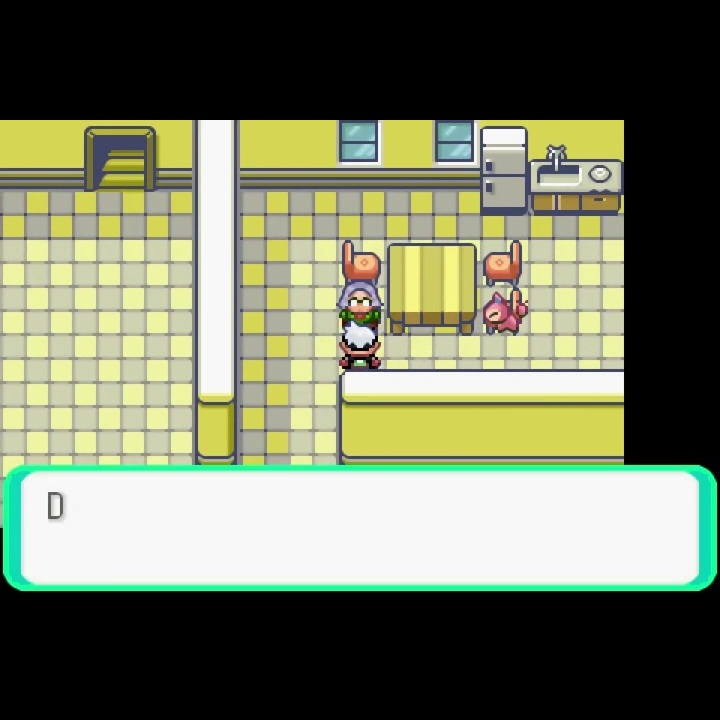npc: (337, 320, 383, 371), (337, 279, 386, 326)
